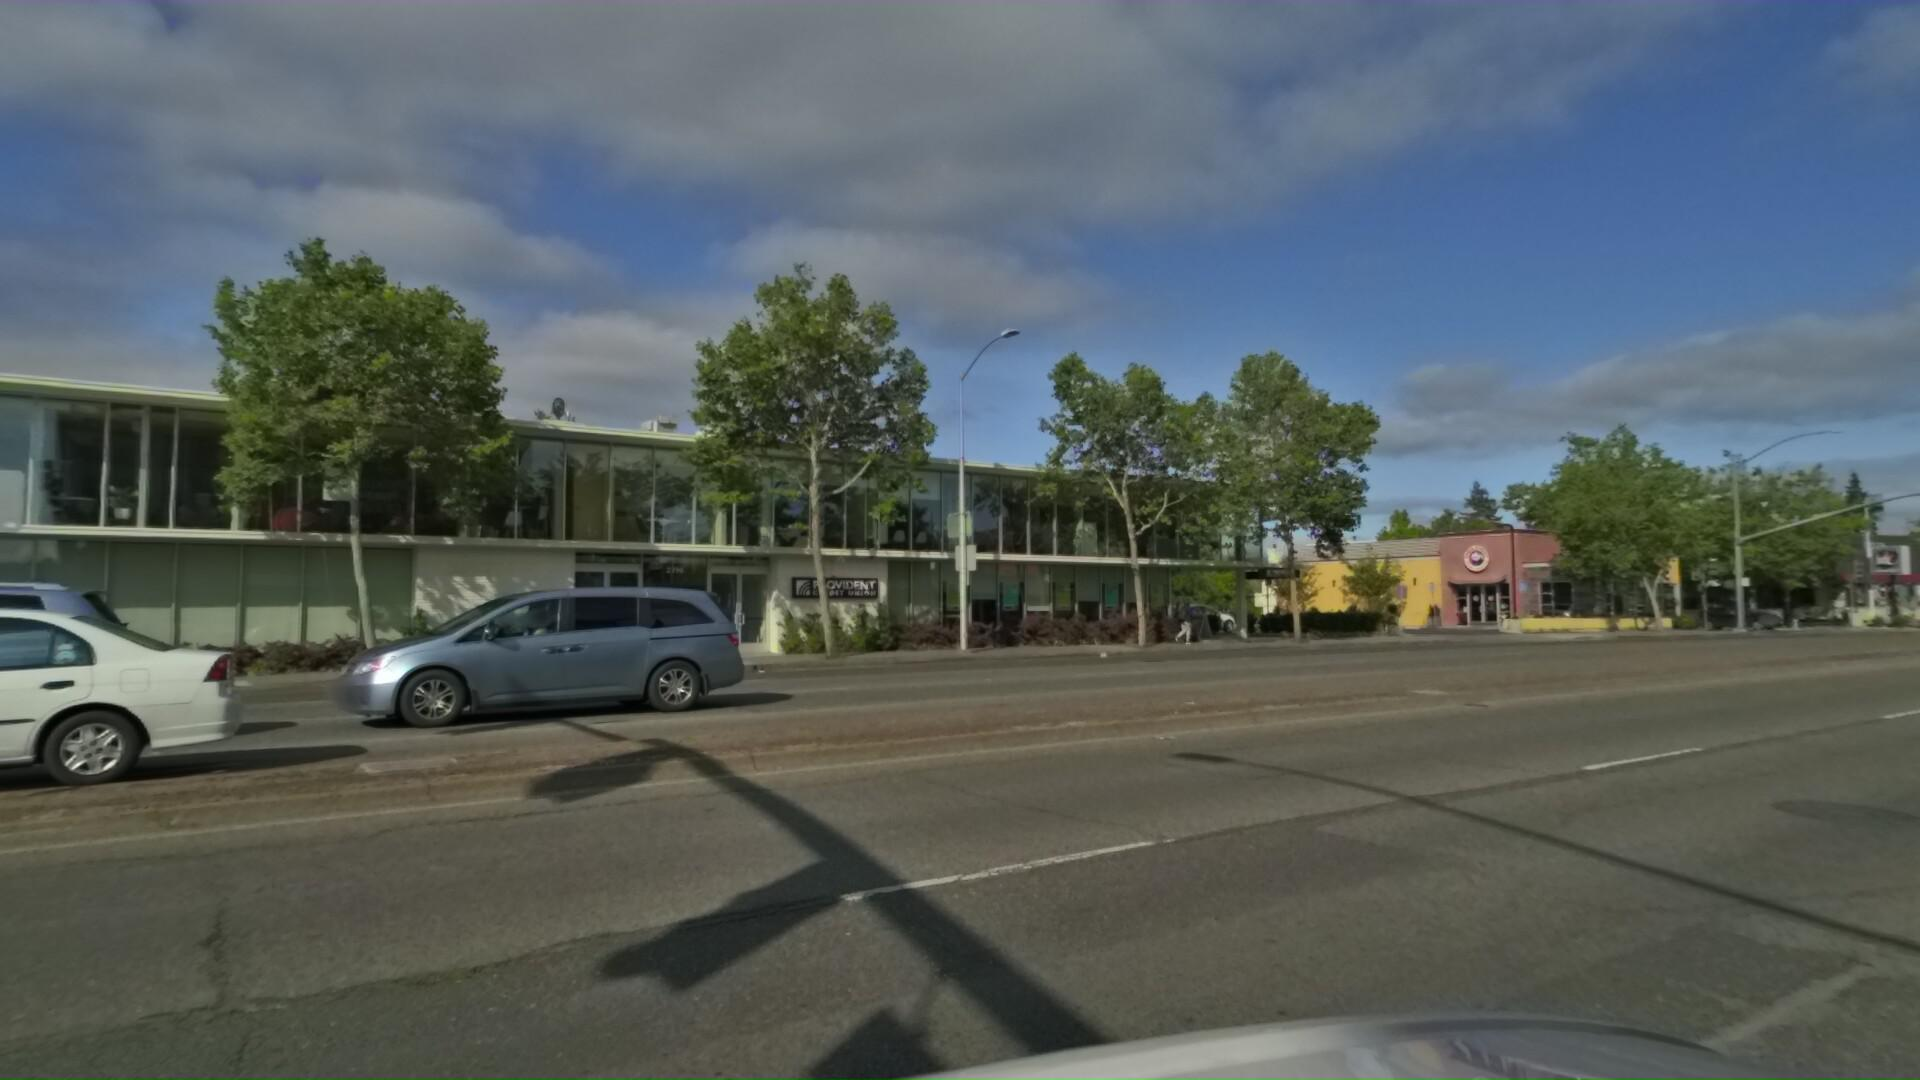car: (286, 578, 737, 749), (0, 603, 253, 881), (0, 559, 167, 820), (0, 562, 65, 781), (1698, 607, 1795, 633)
